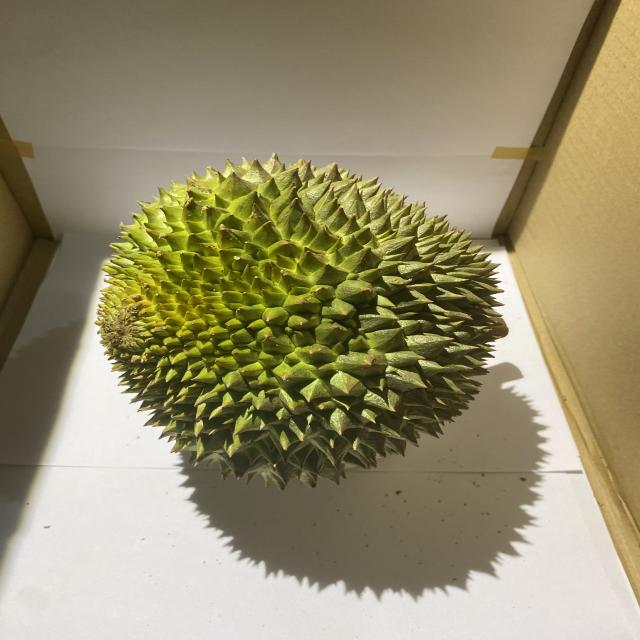immature: (93, 153, 516, 488)
